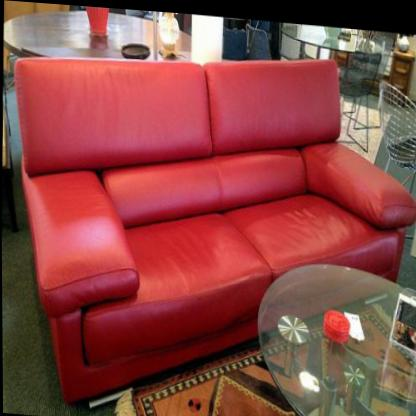Chair: (327, 43, 383, 146), (376, 71, 416, 185)
Sofa: (7, 25, 416, 416)
Table: (252, 221, 416, 416)
